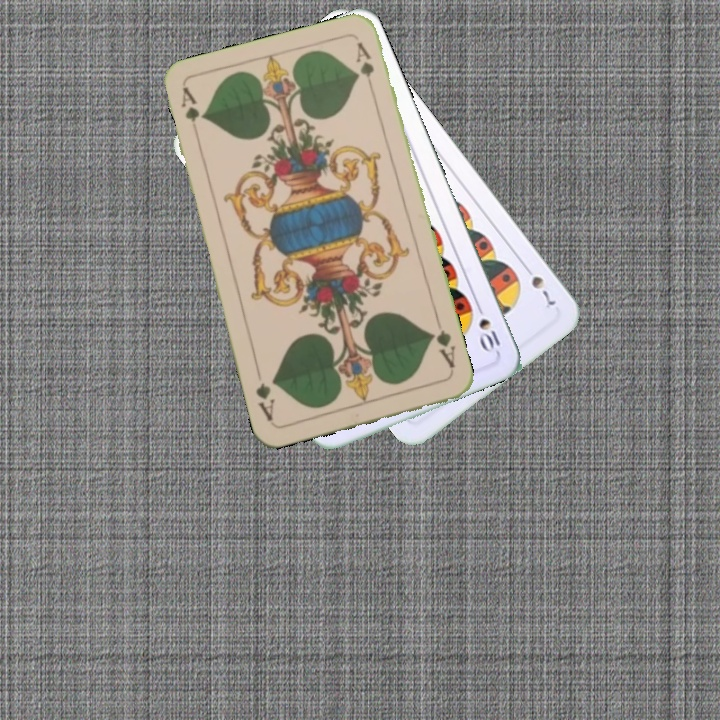GA: (426, 316, 458, 374), (176, 84, 202, 125)
S10: (472, 298, 503, 355)
S7: (519, 260, 559, 308)
